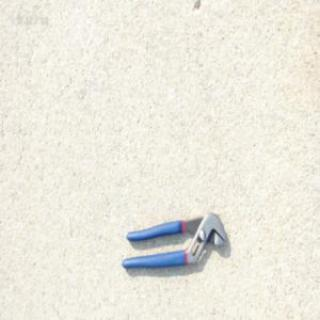Pliertrack_idkeyframe: (120, 210, 230, 269)
